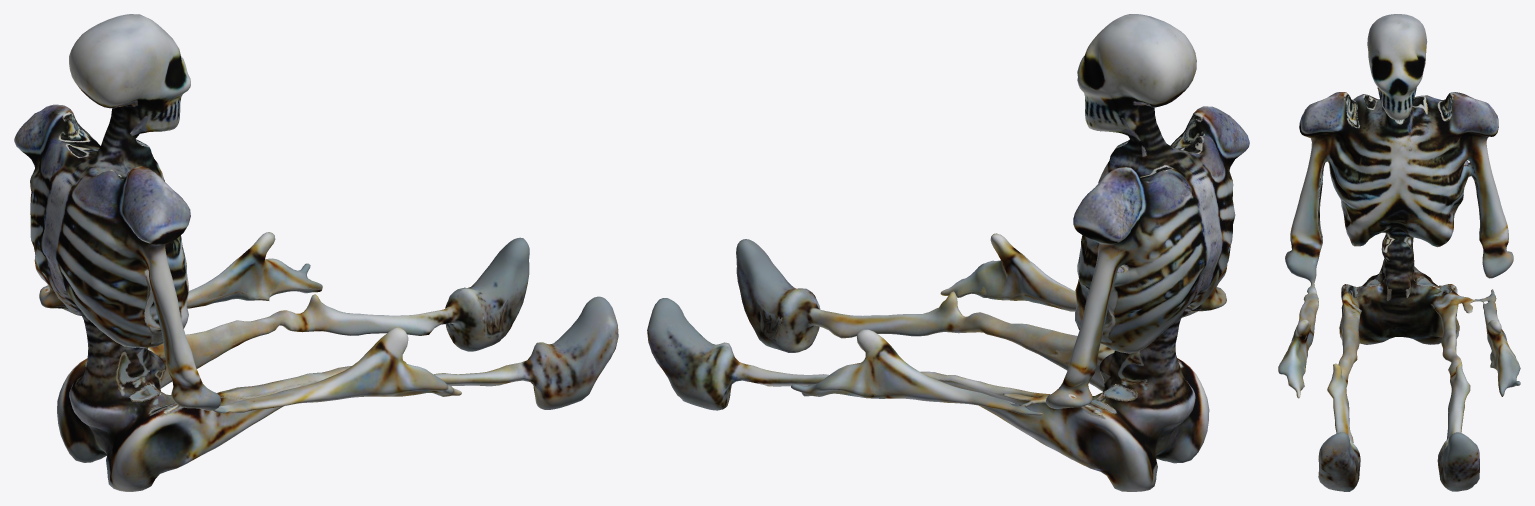
The model's file is Skeleton 1.fbx.
3 renders of one model, left to right at view 1: azimuth 30°, elevation 25°; view 2: azimuth 150°, elevation 25°; view 3: azimuth 270°, elevation 25°, orthographic. The views are drawn at different scales.
Visible parts, largest first — view 1: mesh; view 2: mesh; view 3: mesh.
Part boxes in pixels (x1,y1,x2,y2): mesh: (14, 14, 618, 491); mesh: (647, 14, 1249, 491); mesh: (1278, 14, 1520, 491).
Size of the model in its own units: 99.93 by 82.97 by 55.21.
